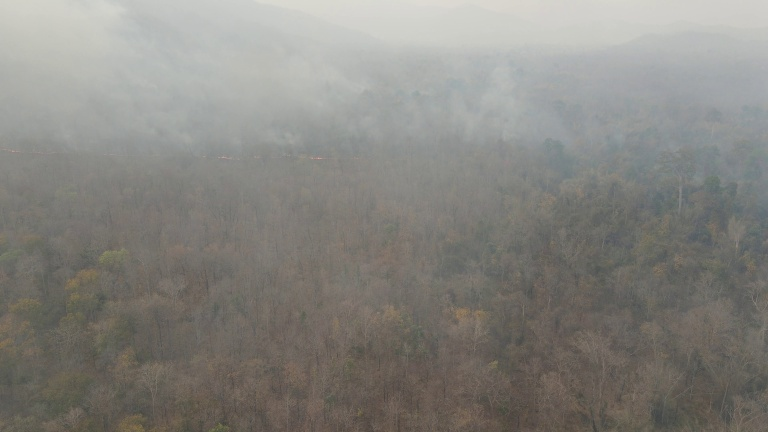fire: (1, 136, 331, 169)
smoke: (1, 1, 768, 162)
